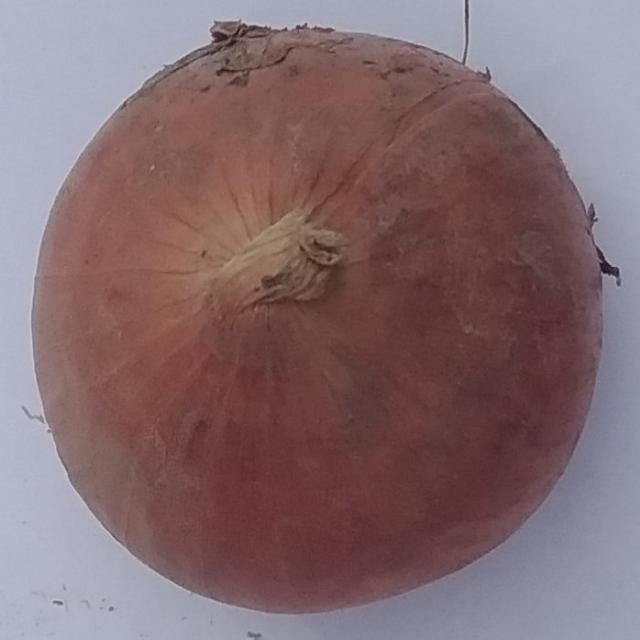onion: (30, 20, 623, 618)
